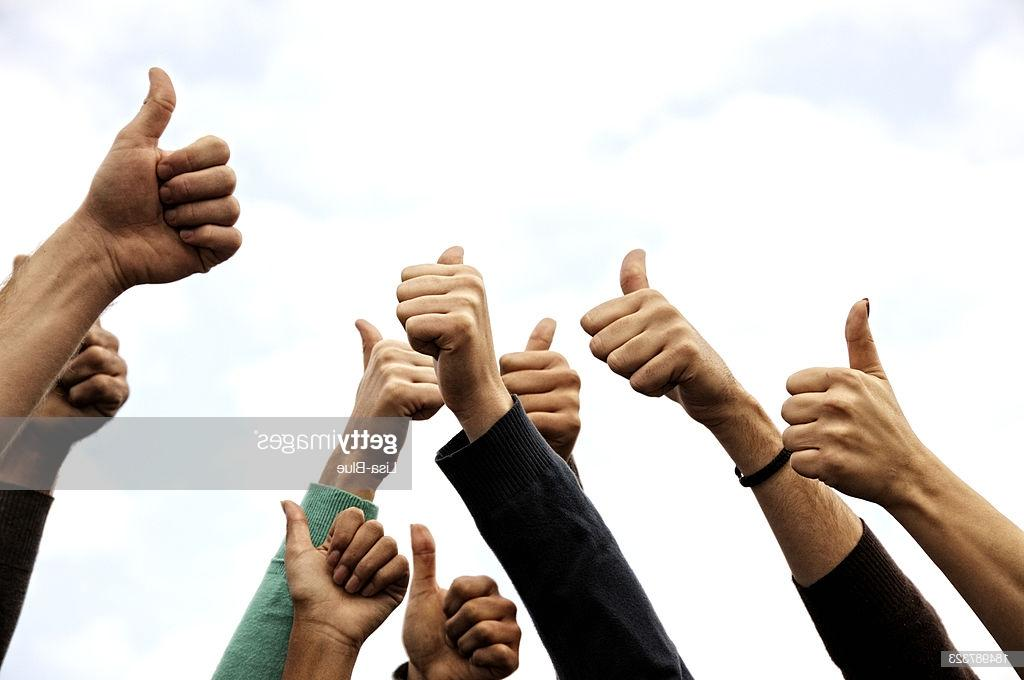thumbsup: (139, 65, 242, 277), (780, 297, 881, 499), (580, 248, 703, 399), (409, 521, 524, 674), (279, 498, 409, 606), (354, 318, 446, 410), (502, 318, 580, 425)
